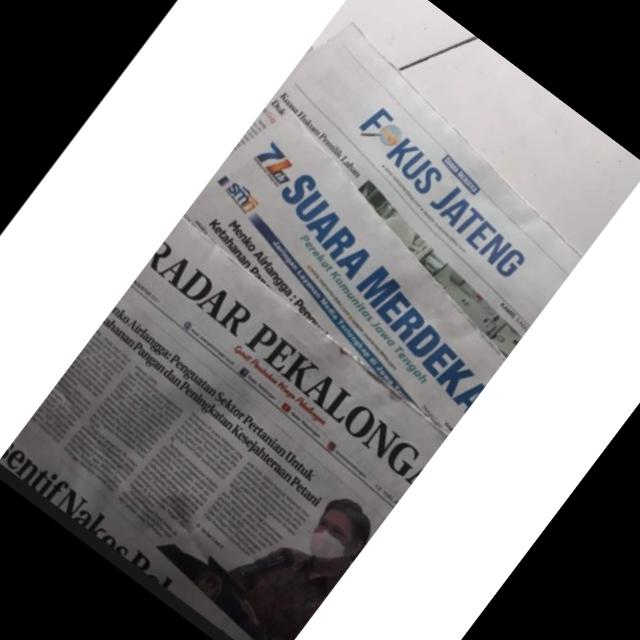Koran: (0, 9, 608, 640)
